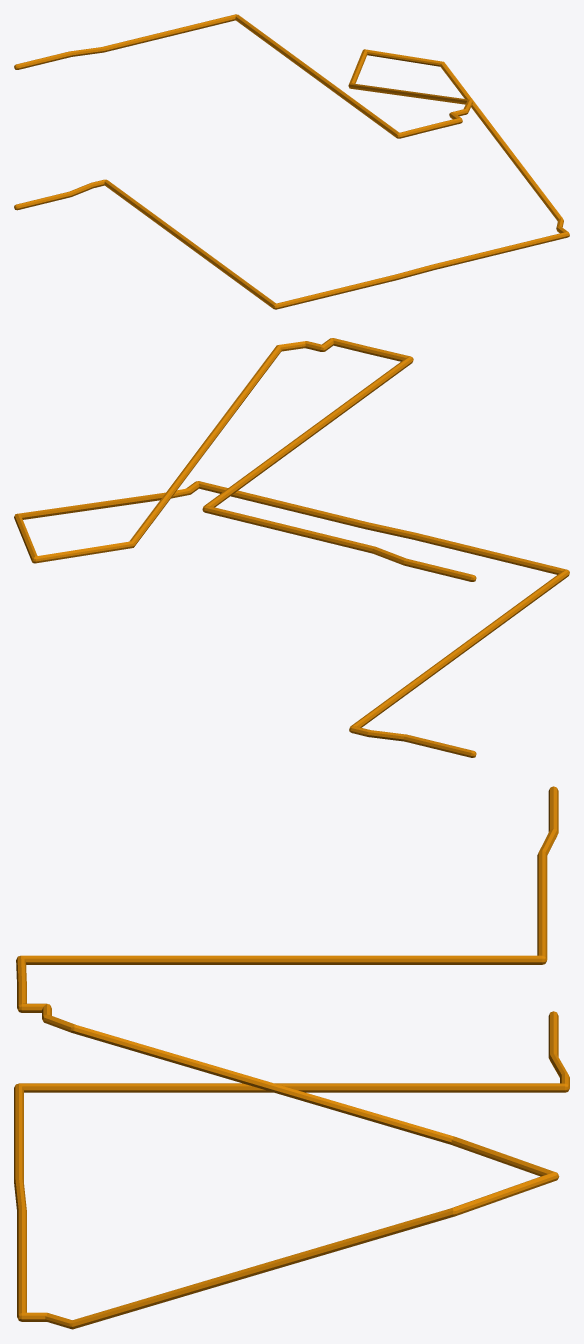
3 views of the same model, one above another, from view 1: azimuth 30°, elevation 25°; view 2: azimuth 150°, elevation 25°; view 3: azimuth 270°, elevation 25° (orthographic). The views are drawn at different scales.
Bounding box in the file's own units: 1492 × 520 × 1120.
